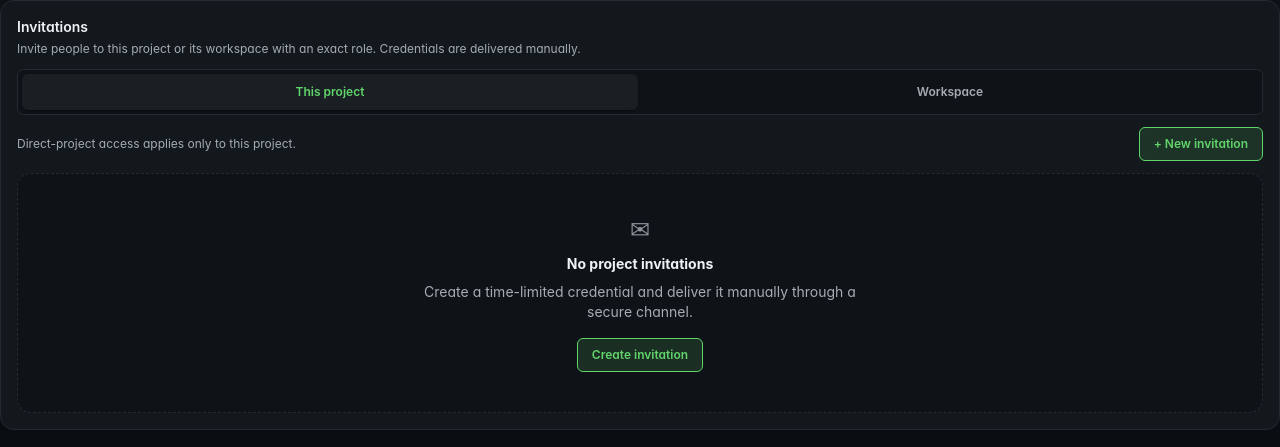
Test: ProjectInvitations › queries project and workspace invitations as separate exact scopes
What coordinates should you click on to do the following:
click the button "Workspace"
I would click on:
 (950, 92)
Its box is [642, 74, 1258, 110].
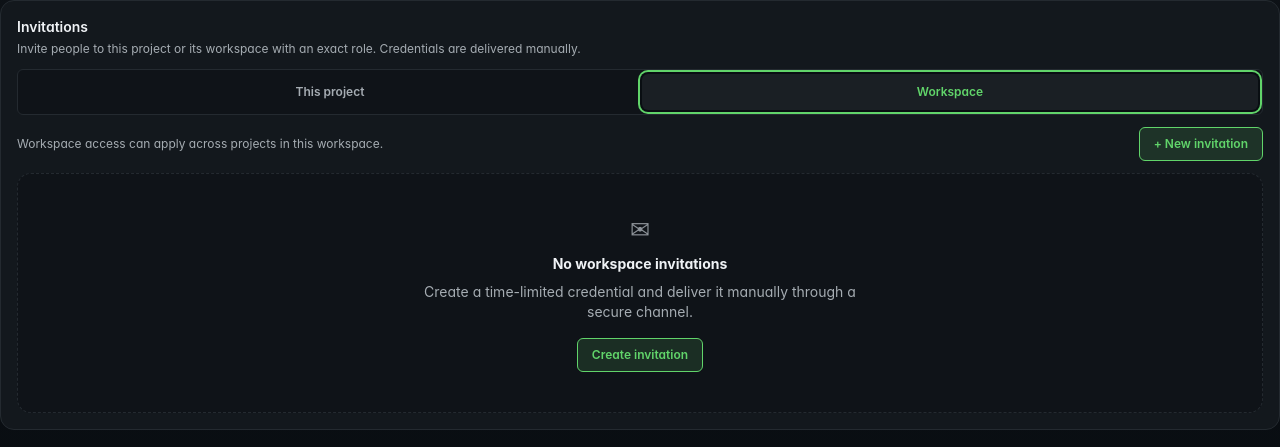
expect the text "Workspace access can apply across projects" is shown: met, box [17, 136, 383, 151]
